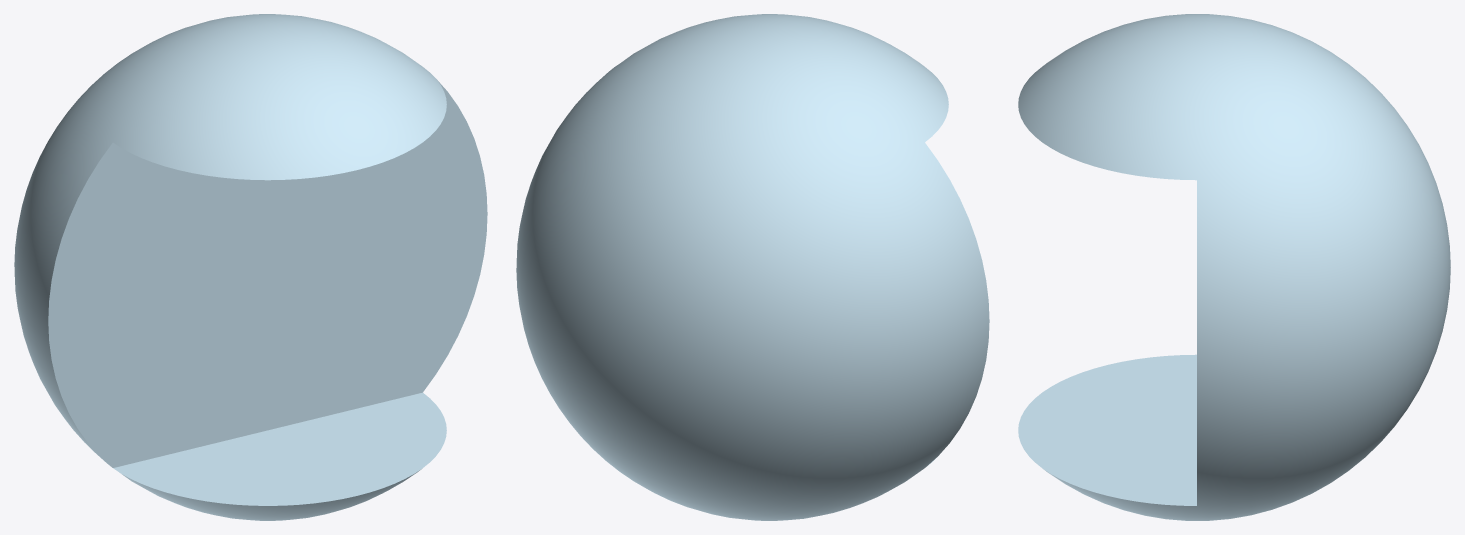
3 renders of one model, left to right at view 1: azimuth 30°, elevation 25°; view 2: azimuth 150°, elevation 25°; view 3: azimuth 270°, elevation 25°, orthographic.
Visible parts, largest first — view 1: Part 1; view 2: Part 1; view 3: Part 1.
Part boxes in pixels (left/top/right/bottom): Part 1: left=14, top=14, right=487, bottom=520; Part 1: left=516, top=14, right=989, bottom=520; Part 1: left=1018, top=14, right=1450, bottom=520.
Size of the model in its own units: 0.0762 by 0.0761 by 0.065.
